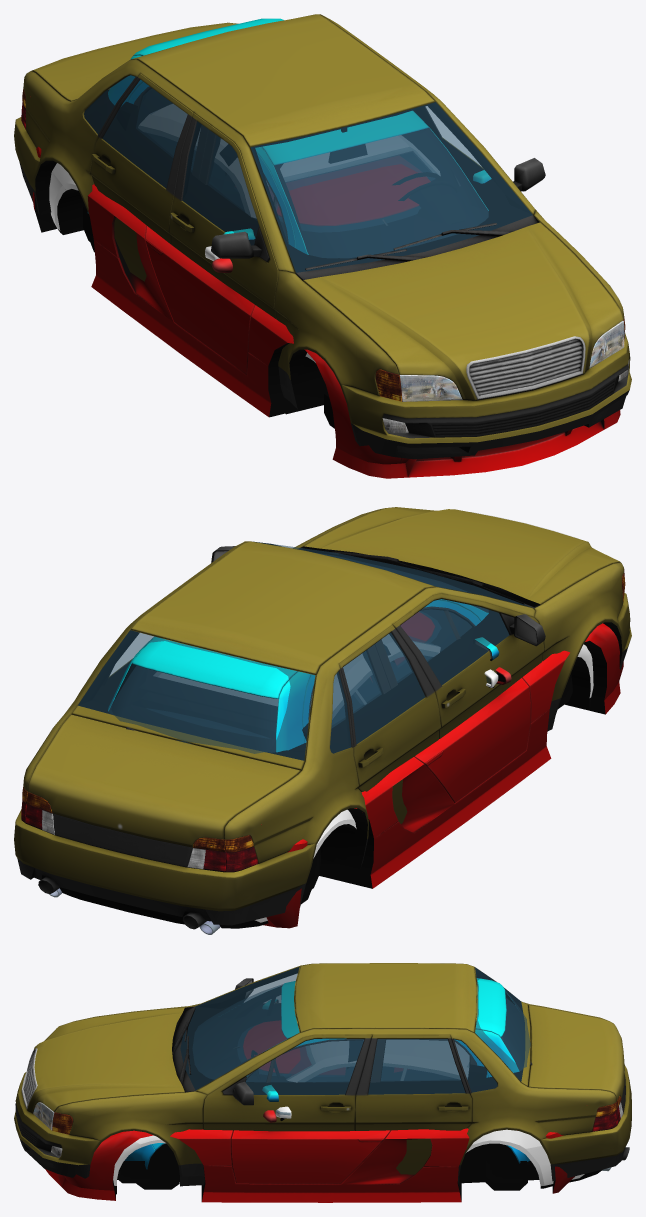
The model's file is car_pack3.glb.
3 views of the same model, one above another, from view 1: azimuth 30°, elevation 25°; view 2: azimuth 150°, elevation 25°; view 3: azimuth 270°, elevation 25° (orthographic). The views are drawn at different scales.
Visible parts, largest first — view 1: Sedan_Body, Sedan_Glass, Sport_Body, Compact_Glass, Compact_Body, LuxSedan_Body, Sedan_Optics, LuxSedan_Optics; view 2: Sedan_Body, Sedan_Glass, Sport_Body, Compact_Glass, Compact_Body, Sedan_Optics, LuxSedan_Optics, LuxSedan_Body; view 3: Sedan_Body, Sport_Body, Sedan_Glass, Compact_Glass, Compact_Body, LuxSedan_Body, Sedan_Optics, LuxSedan_Optics.
Part boxes in pixels (x1,y1,x2,y2): Sedan_Body: (14,14,631,459); Sedan_Glass: (84,75,532,272); Sport_Body: (30,96,620,478); Compact_Glass: (136,89,488,257); Compact_Body: (87,18,491,254); LuxSedan_Body: (49,104,439,413); Sedan_Optics: (21,89,629,433); LuxSedan_Optics: (57,111,435,414); Sedan_Body: (14,507,631,929); Sedan_Glass: (78,542,529,760); Sport_Body: (261,612,623,928); Compact_Glass: (109,554,488,753); Compact_Body: (108,599,499,752); Sedan_Optics: (21,569,625,872); LuxSedan_Optics: (49,641,591,934); LuxSedan_Body: (154,634,593,922); Sedan_Body: (14,963,631,1186); Sport_Body: (45,1021,574,1202); Sedan_Glass: (180,967,524,1094); Compact_Glass: (193,984,530,1082); Compact_Body: (124,978,532,1180); LuxSedan_Body: (113,1040,584,1185); Sedan_Optics: (33,1096,623,1157); LuxSedan_Optics: (114,1046,611,1194).
Bounding box in the file's own units: 1.79 × 1.17 × 4.01.
Materials: 10 (5 with a texture image).
